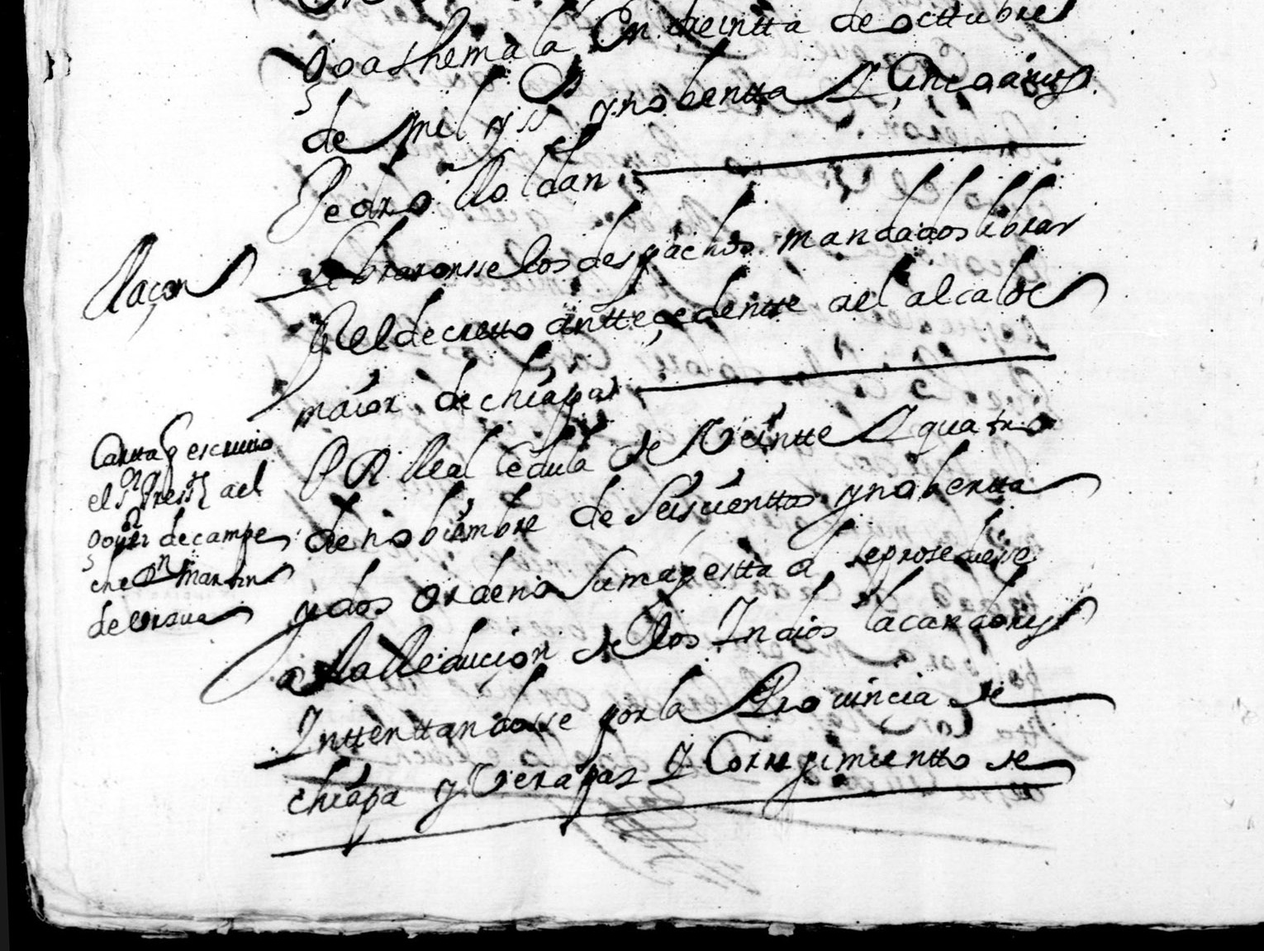lacandon: (864, 562, 1098, 651)
